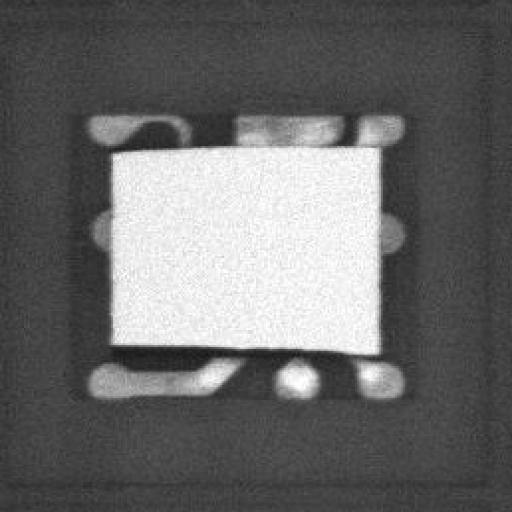DIE_BROKEN: (111, 341, 379, 355)
